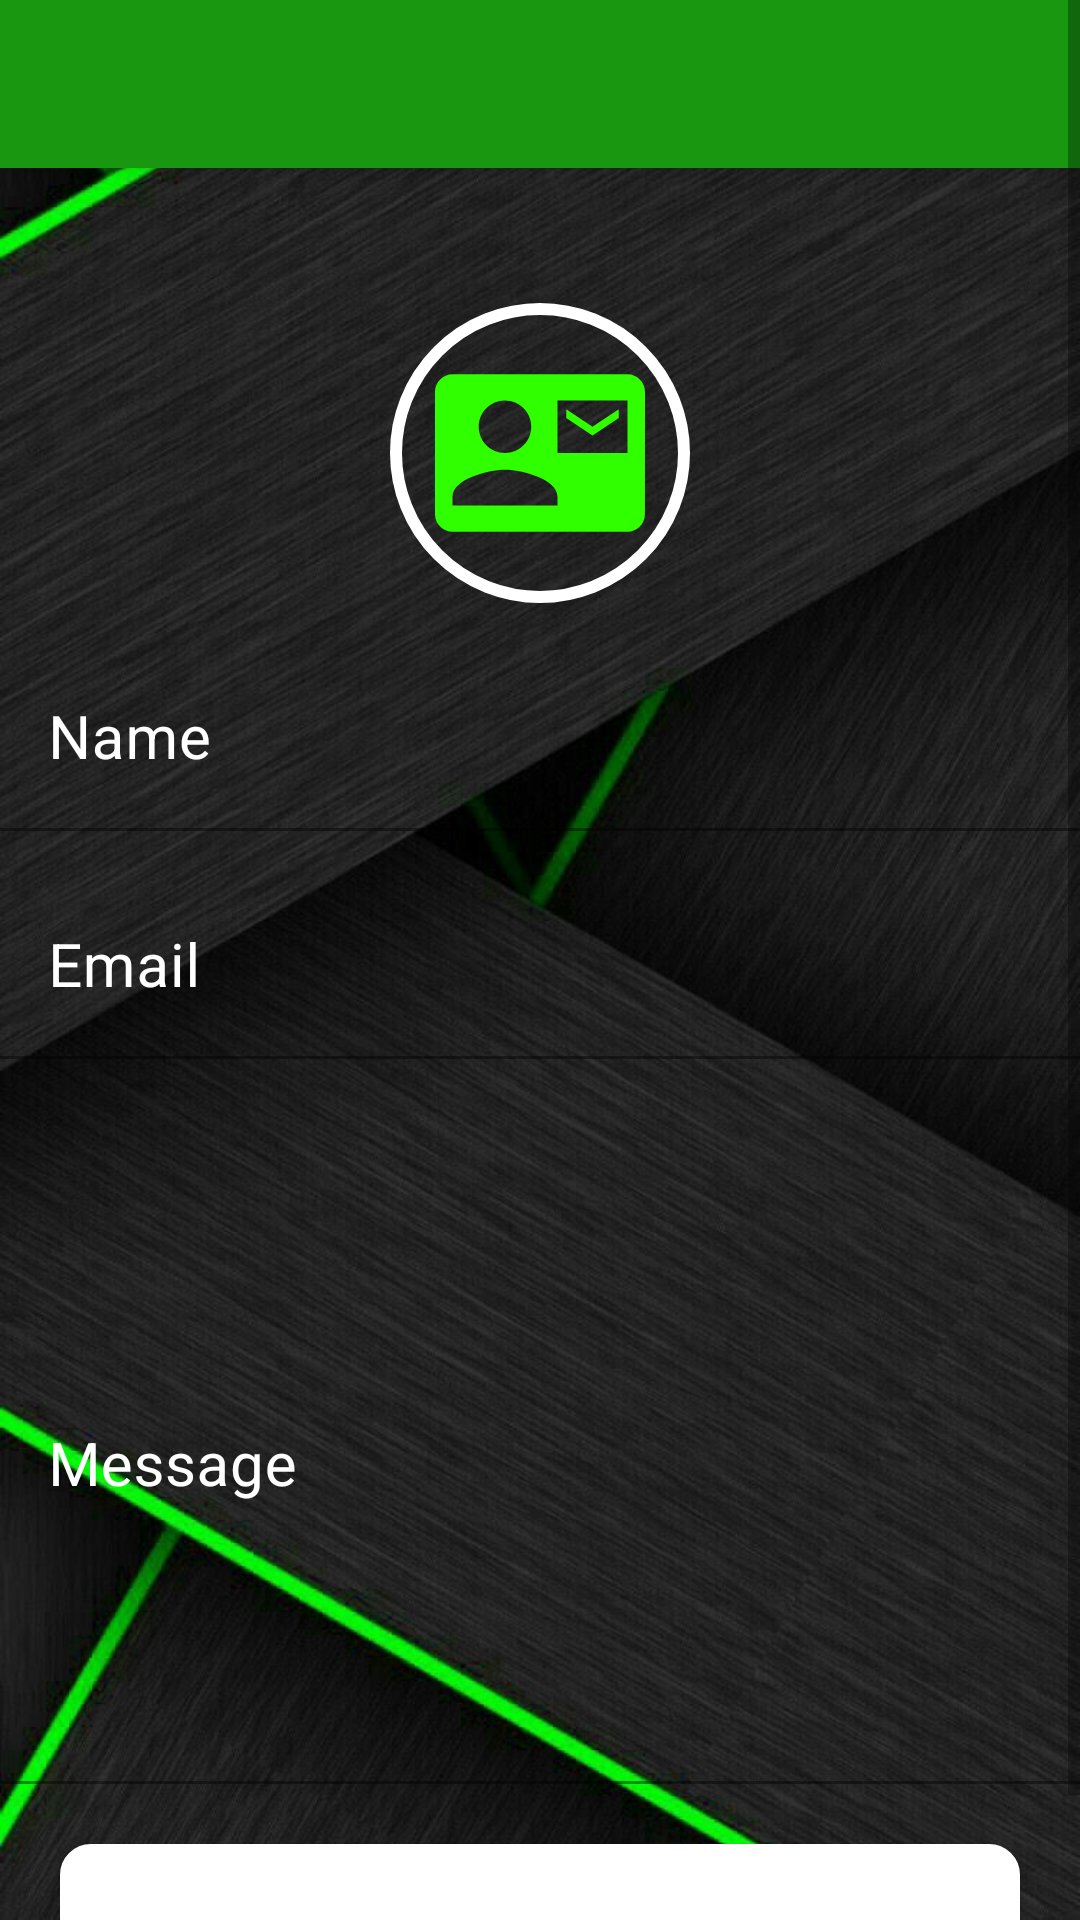

Screen size 1080×1920. Icon name, then its box in pixels as (x1, y1, x2, y2):
contact: (390, 303, 690, 603)
